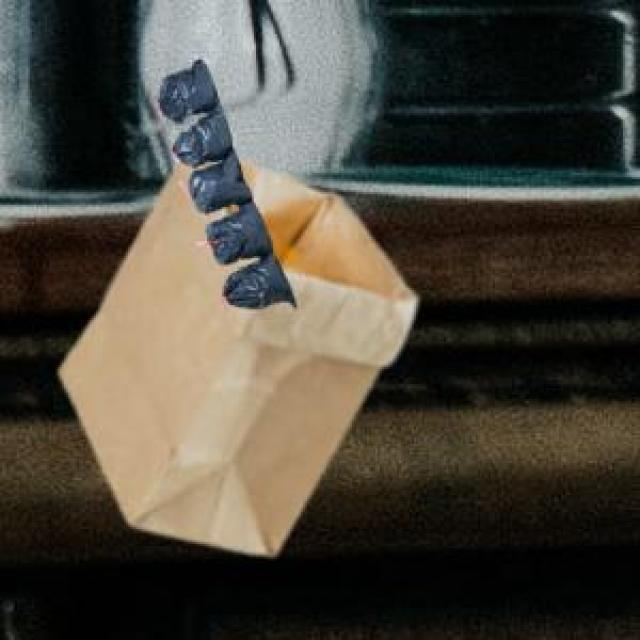miscellaneous trash: (154, 56, 292, 305)
paper: (56, 156, 412, 550)
